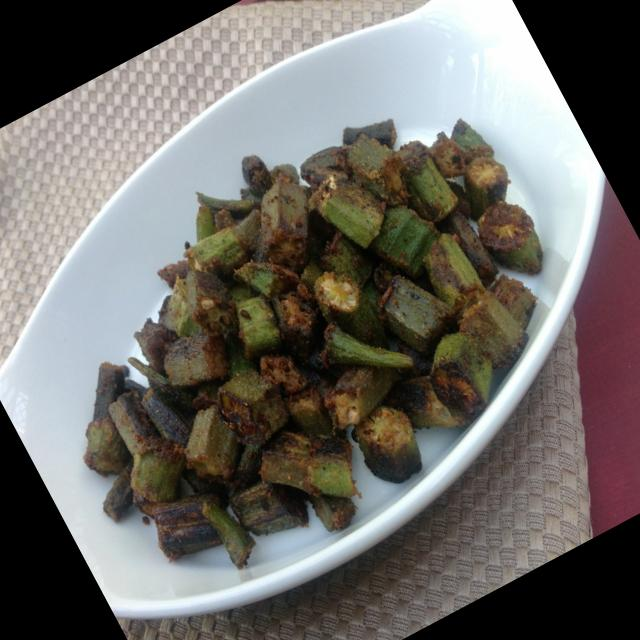BhindiMasala: (0, 50, 619, 623)
